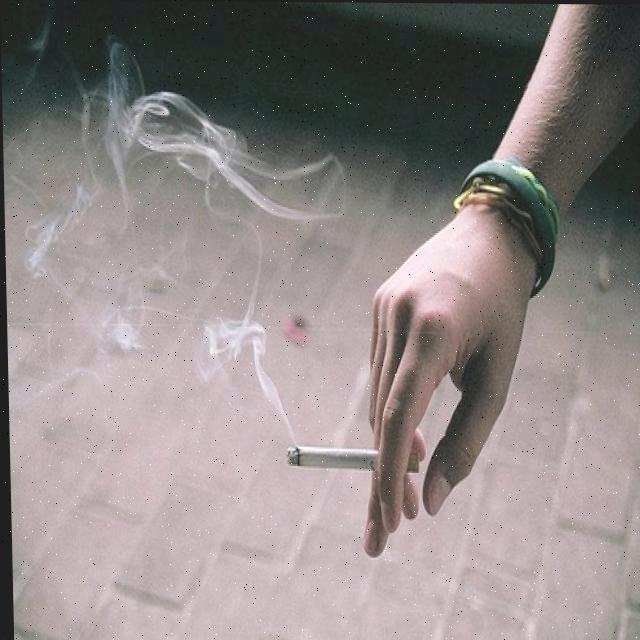cigarette: (287, 446, 415, 472)
